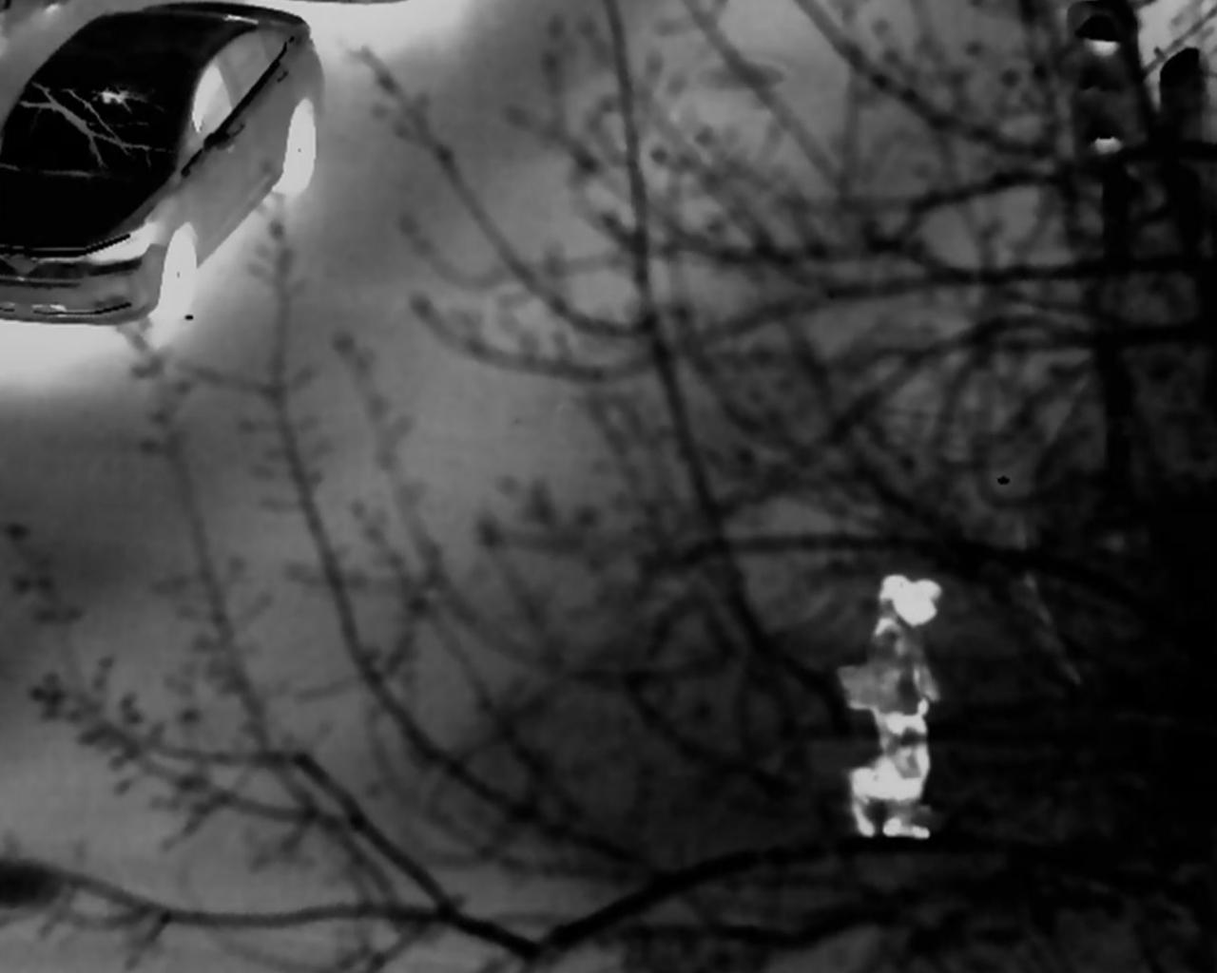person: (840, 573, 950, 845)
